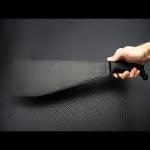Golok: (0, 46, 150, 98)
